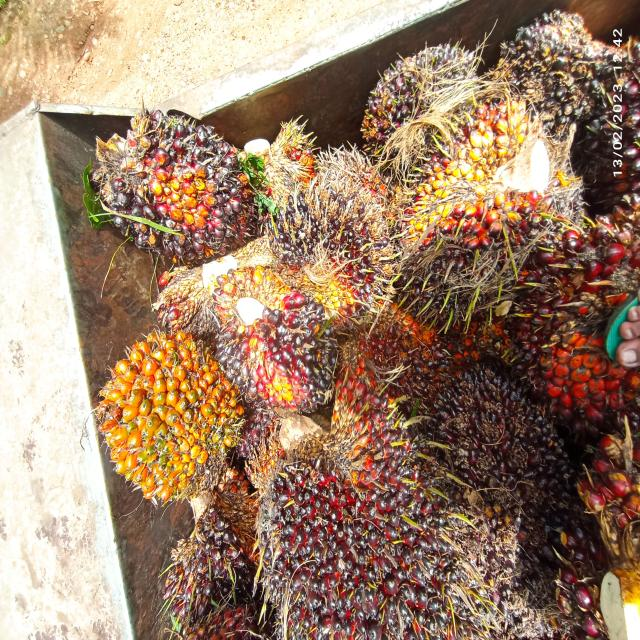fraksi 00: (375, 85, 595, 346), (420, 356, 582, 628), (84, 93, 251, 281), (209, 268, 338, 435), (244, 166, 400, 297), (138, 510, 276, 640), (361, 13, 479, 165), (516, 4, 622, 120)
fraksi 1: (254, 379, 458, 640)
fraksi 3: (534, 239, 640, 459)
fraksi 4: (91, 330, 245, 520)
